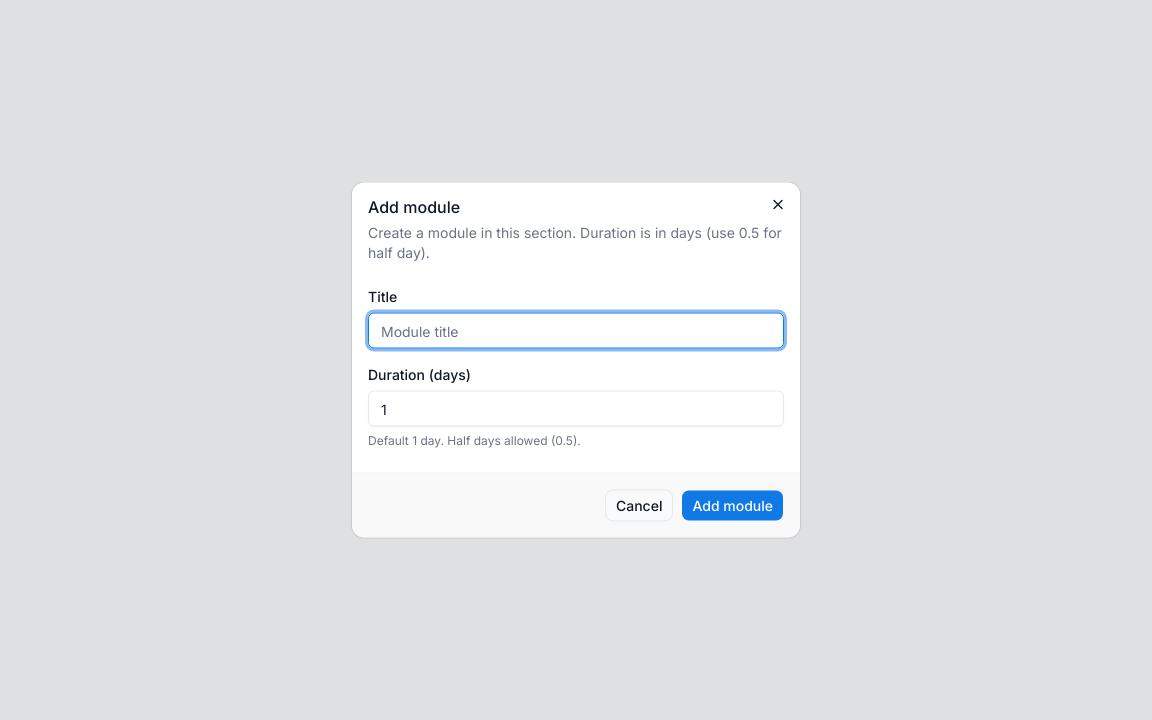
Test: AddModuleDialog › shows validation when title missing
The image size is (1152, 720).
Click the button "Add module": [733, 506] box [681,490,784,522]
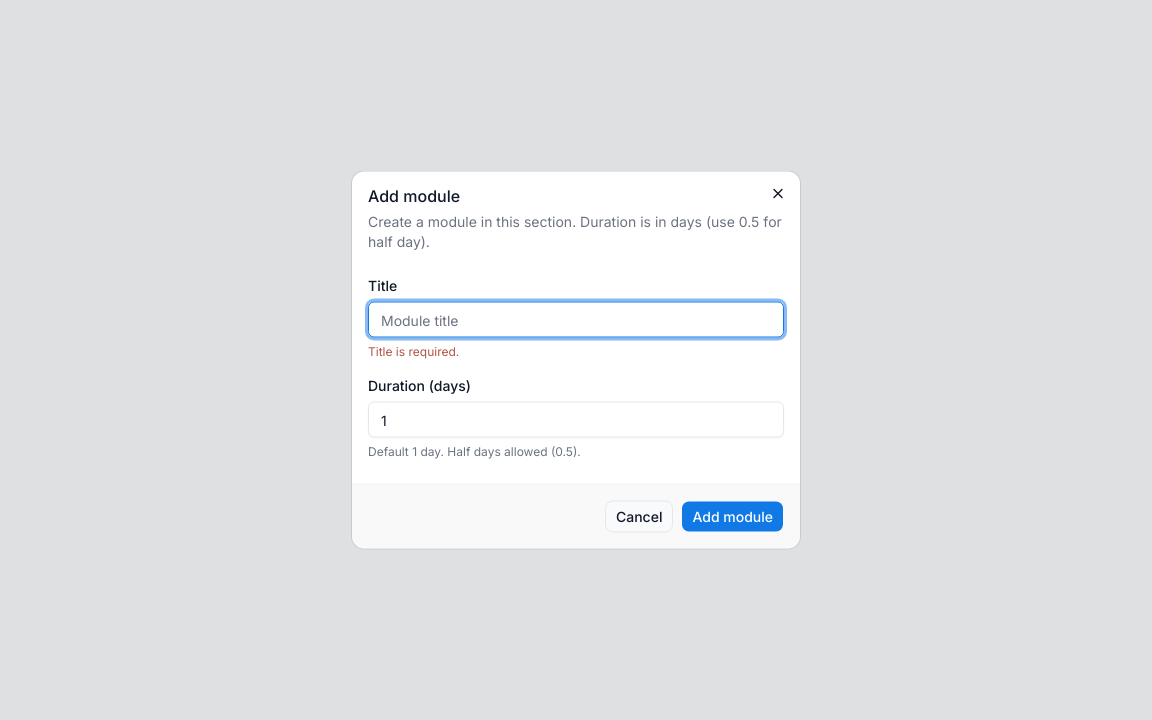
Expected: the text "Title is required." is shown, [368,344,459,358]
